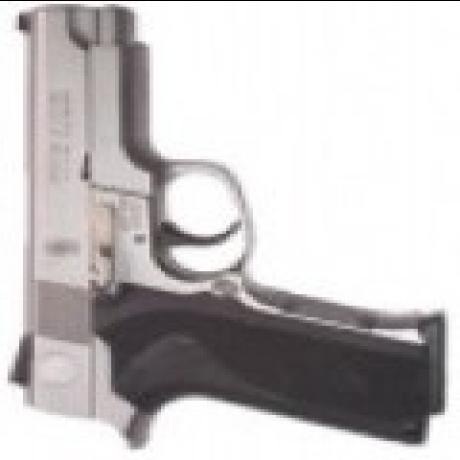weapon: (18, 5, 449, 448)
